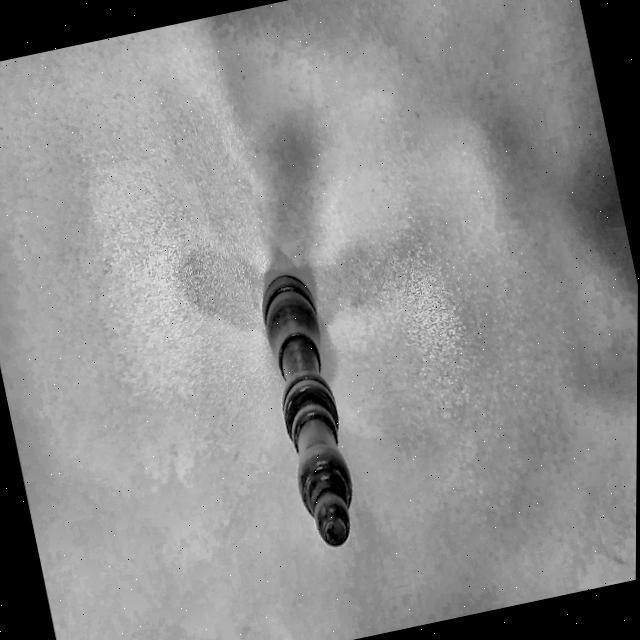black-queen: (240, 259, 376, 562)
